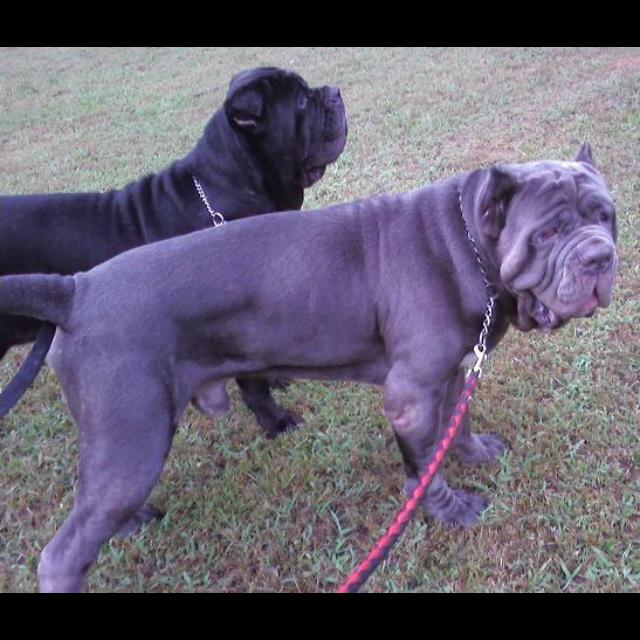mastino_napoletano: (1, 141, 619, 593), (2, 67, 349, 444)
